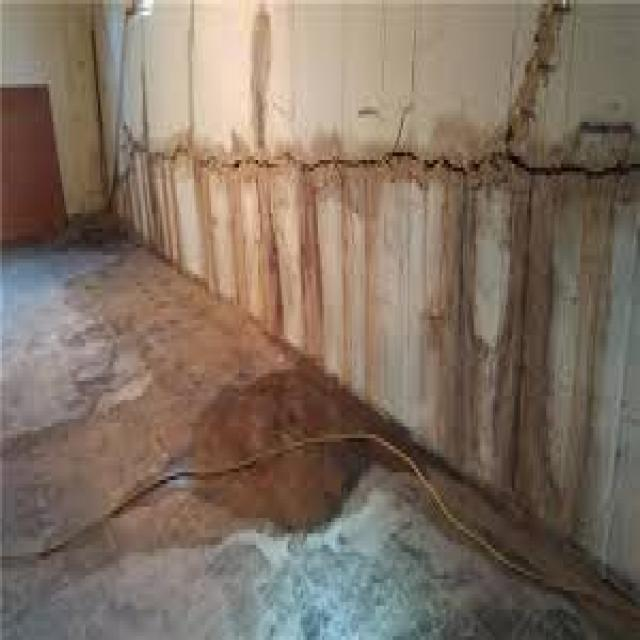Crack: (117, 133, 638, 183)
